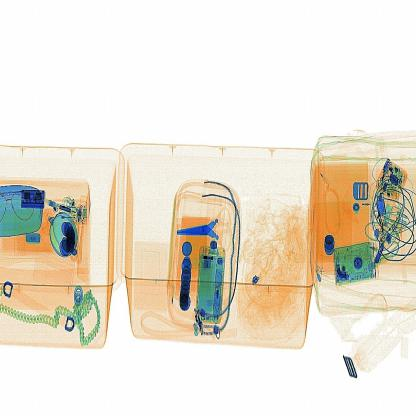gun: (172, 198, 244, 261)
